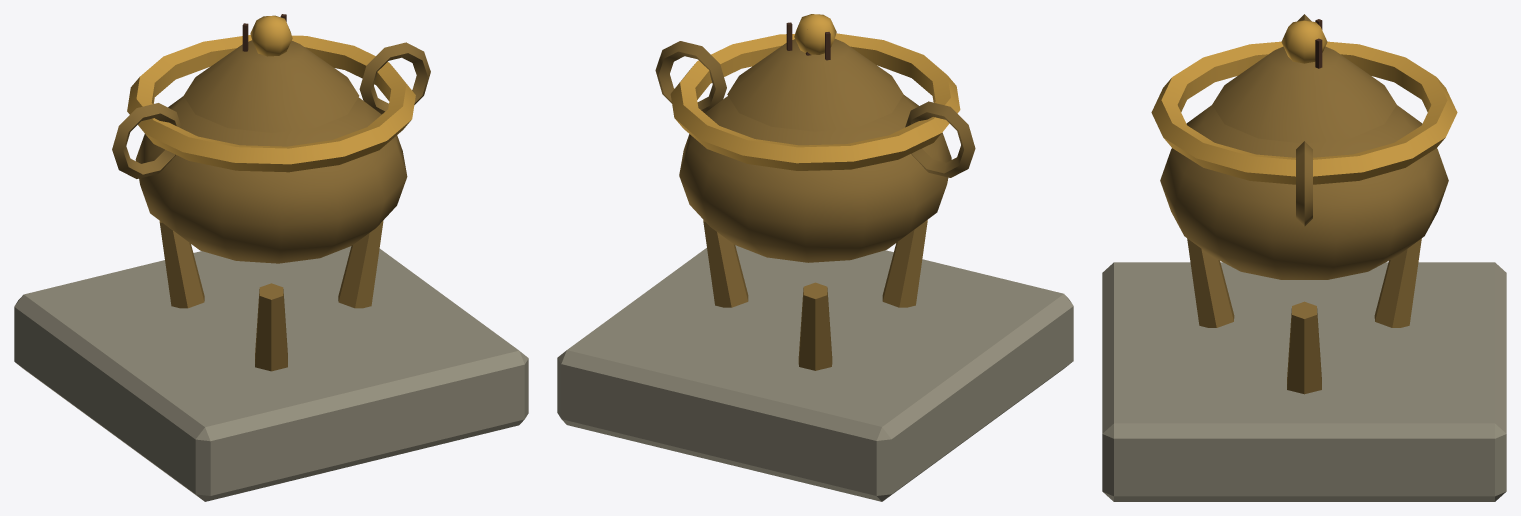
Rendered from incense_burner.glb.
3 renders of one model, left to right at view 1: azimuth 30°, elevation 25°; view 2: azimuth 150°, elevation 25°; view 3: azimuth 270°, elevation 25°, orthographic. The views are drawn at different scales.
Visible parts, largest first — view 1: Incense; view 2: Incense; view 3: Incense.
Part boxes in pixels (x1,y1,x2,y2): Incense: (14, 14, 528, 501); Incense: (557, 14, 1073, 501); Incense: (1102, 14, 1506, 501).
Size of what is drawn, in the model's own units: 1.4 by 1.53 by 1.4.
